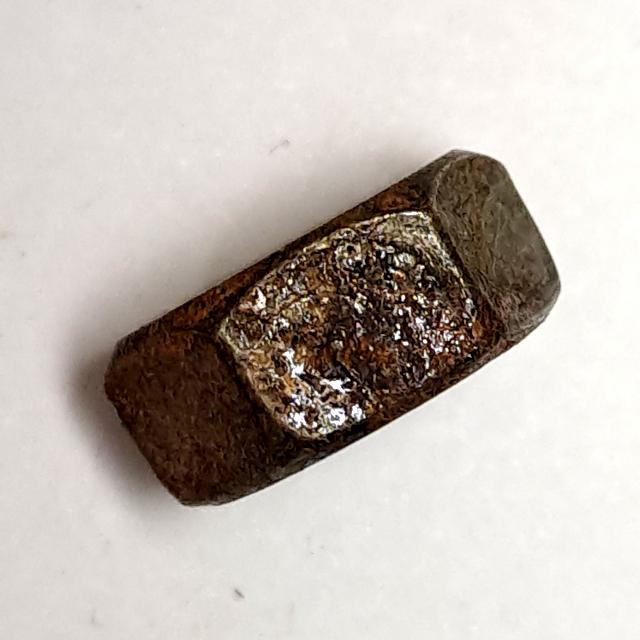Side_Rust: (93, 138, 572, 522)
